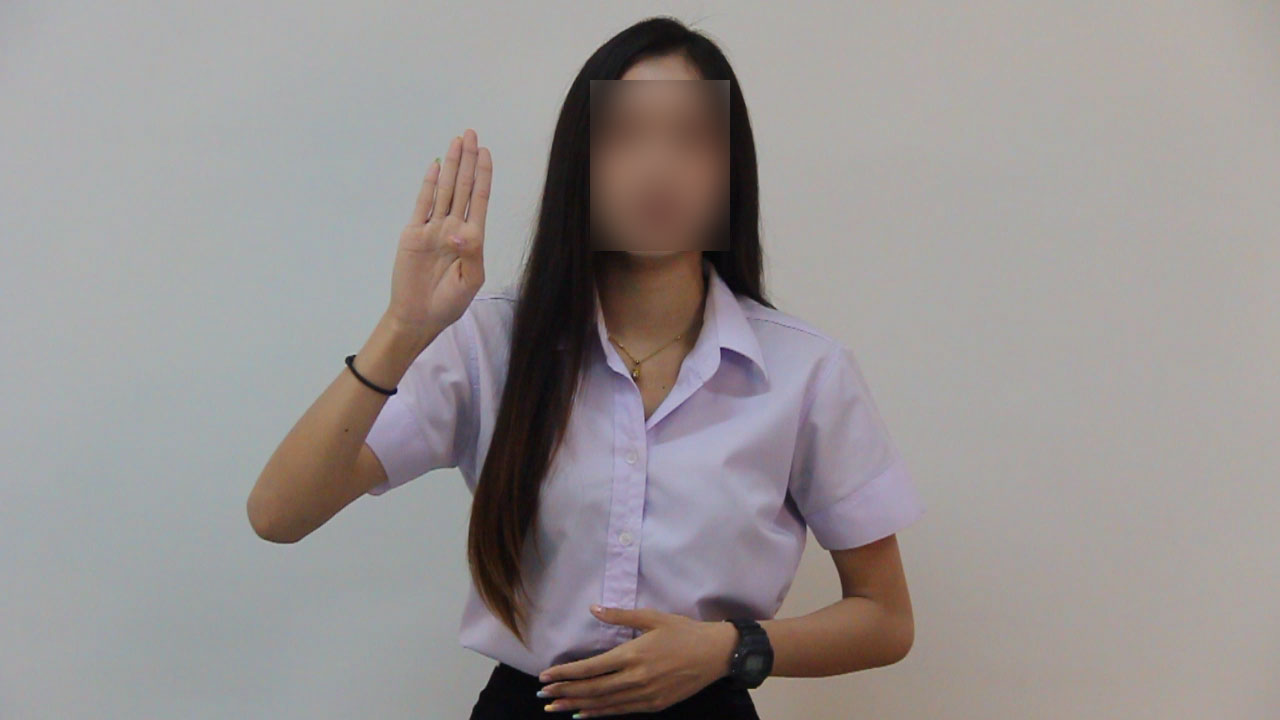bor: (371, 102, 510, 358)
